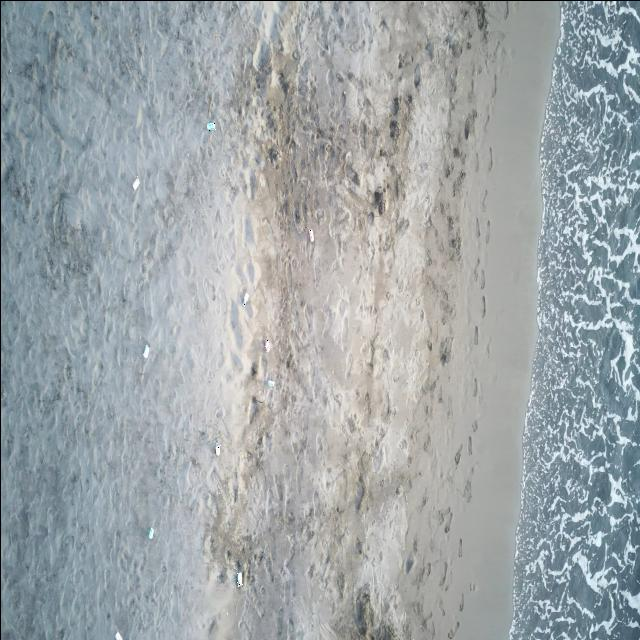Garbage: (131, 176, 139, 190), (263, 339, 271, 352), (207, 120, 215, 131), (241, 292, 247, 306), (236, 572, 241, 587), (148, 527, 154, 539), (215, 442, 220, 455), (143, 344, 148, 357), (308, 228, 312, 241), (115, 631, 121, 639), (267, 379, 273, 387)
